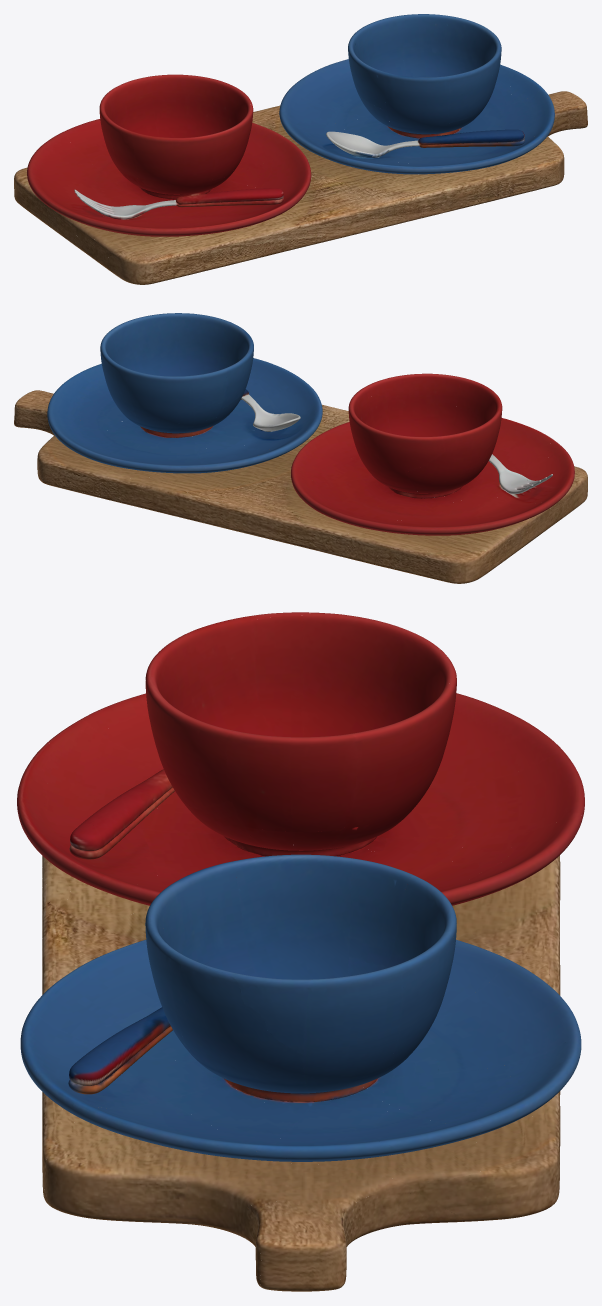
Rendered from kosher-dishes.glb.
3 renders of one model, top to bottom at view 1: azimuth 30°, elevation 25°; view 2: azimuth 150°, elevation 25°; view 3: azimuth 270°, elevation 25°, orthographic. The views are drawn at different scales.
Parts seen in each view (by area): view 1: tripo_node_9bdb032b-3103-46fa-b077-a4add29ff721; view 2: tripo_node_9bdb032b-3103-46fa-b077-a4add29ff721; view 3: tripo_node_9bdb032b-3103-46fa-b077-a4add29ff721.
Part boxes in pixels (x1,y1,x2,y2): tripo_node_9bdb032b-3103-46fa-b077-a4add29ff721: (14, 14, 587, 284); tripo_node_9bdb032b-3103-46fa-b077-a4add29ff721: (14, 313, 587, 583); tripo_node_9bdb032b-3103-46fa-b077-a4add29ff721: (17, 612, 584, 1291).
Bounding box in the file's own units: 0.9799 × 0.1972 × 0.451.
Materials: 1 (1 with a texture image).
